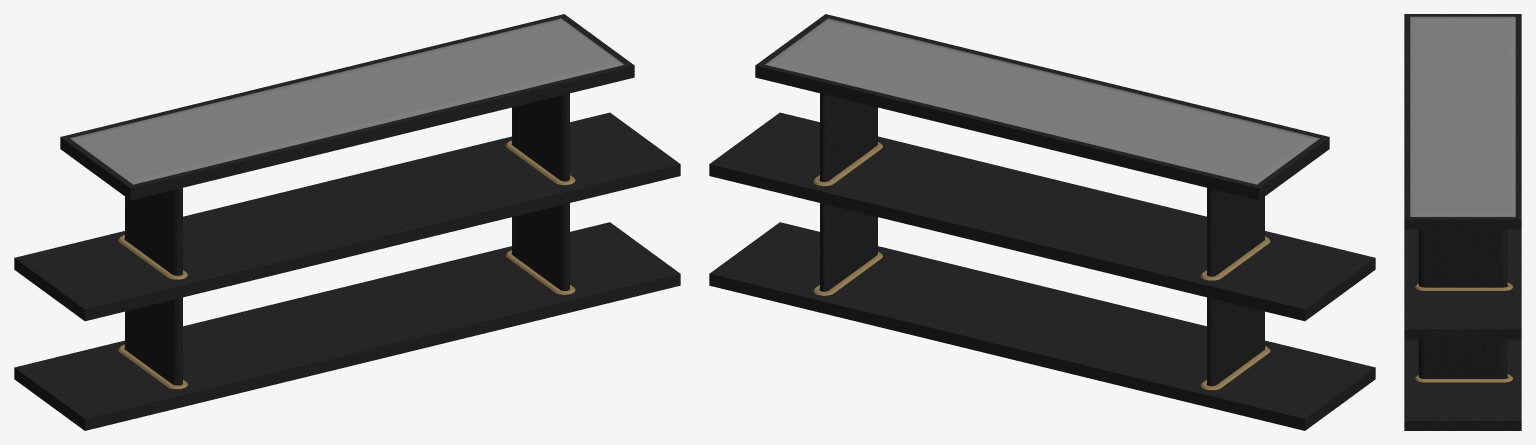
The model's file is sofa_shelves.glb.
The picture shows the model from 3 angles, left to right: view 1: azimuth 30°, elevation 25°; view 2: azimuth 150°, elevation 25°; view 3: azimuth 270°, elevation 25°; orthographic projection. The views are drawn at different scales.
Parts seen in each view (by area): view 1: Object_28, Object_4, Object_26, Object_24, Object_142, Object_136, Object_22, Object_16; view 2: Object_28, Object_4, Object_26, Object_24, Object_142, Object_136, Object_16, Object_22; view 3: Object_26, Object_24, Object_28, Object_4, Object_22, Object_16, Object_12, Object_20.
Part boxes in pixels (x1,y1,x2,y2): Object_28: (14, 112, 680, 321); Object_4: (14, 222, 680, 430); Object_26: (60, 14, 634, 200); Object_24: (70, 18, 624, 184); Object_142: (125, 188, 182, 275); Object_136: (125, 297, 182, 385); Object_22: (512, 93, 569, 181); Object_16: (512, 203, 569, 290); Object_28: (709, 112, 1375, 321); Object_4: (709, 222, 1375, 430); Object_26: (755, 14, 1329, 200); Object_24: (765, 18, 1319, 184); Object_142: (1207, 188, 1264, 276); Object_136: (1207, 297, 1264, 386); Object_16: (820, 203, 877, 291); Object_22: (820, 93, 877, 181); Object_26: (1404, 14, 1521, 229); Object_24: (1410, 16, 1515, 216); Object_28: (1404, 229, 1521, 339); Object_4: (1404, 339, 1521, 430); Object_22: (1418, 229, 1507, 287); Object_16: (1418, 339, 1507, 378); Object_12: (1415, 374, 1512, 382); Object_20: (1415, 282, 1512, 290).
Bounding box in the file's own units: 1.01 × 0.3861 × 0.2062.
5 materials, 2 textured.
